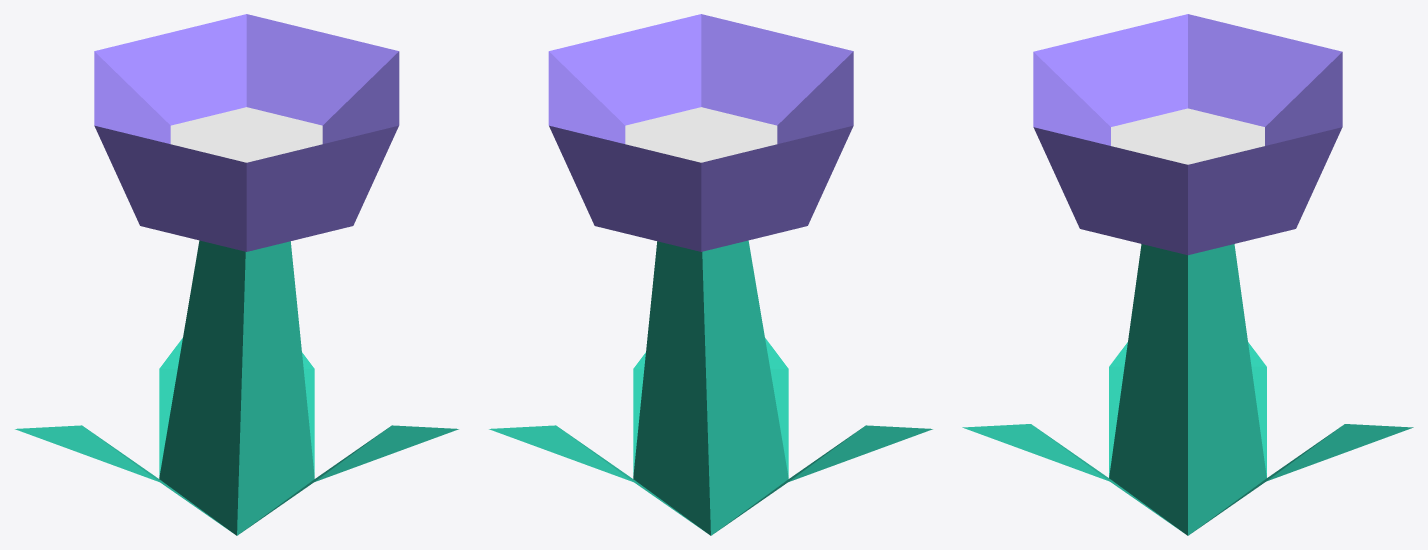
Rendered from flower-purple-c.glb.
The picture shows the model from 3 angles, left to right: view 1: azimuth 30°, elevation 25°; view 2: azimuth 150°, elevation 25°; view 3: azimuth 270°, elevation 25°; orthographic projection.
Parts seen in each view (by area): view 1: flower_purpleC; view 2: flower_purpleC; view 3: flower_purpleC.
Boxes of the visible parts, box(x1,y1,x2,y2) form: flower_purpleC: box(15, 14, 458, 535); flower_purpleC: box(489, 14, 932, 535); flower_purpleC: box(962, 14, 1413, 535).
Bounding box in the file's own units: 0.1806 × 0.1825 × 0.1811.
